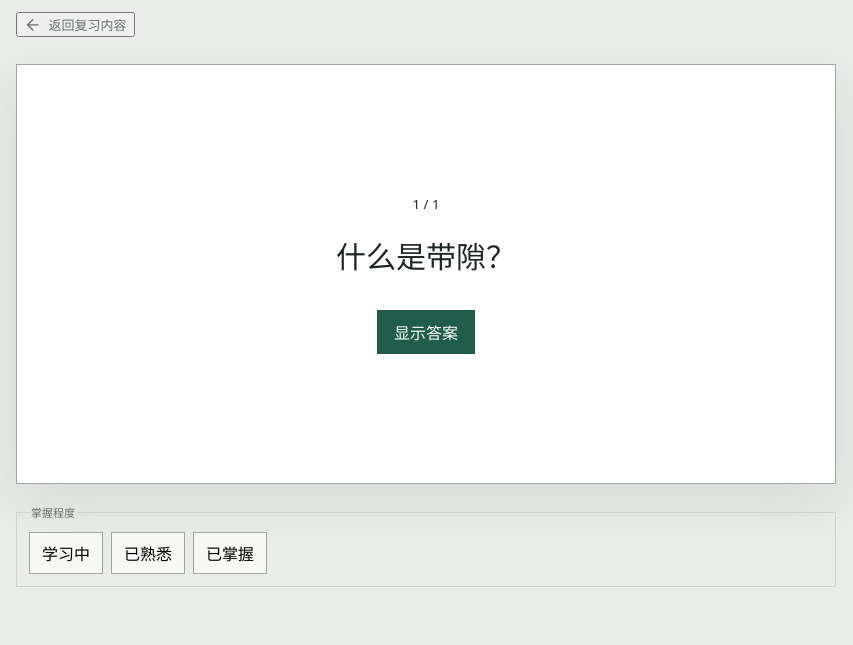
Scenario: reveals cards intentionally and records an explicit self-rating
This screenshot has width=853, height=645.
Expected: the heading "什么是带隙？" is shown, [336,234,516,280]
Expected: the text "导带底与价带顶的能量差" is not shown
Click the button "显示答案": (426, 332) [377,310,475,354]
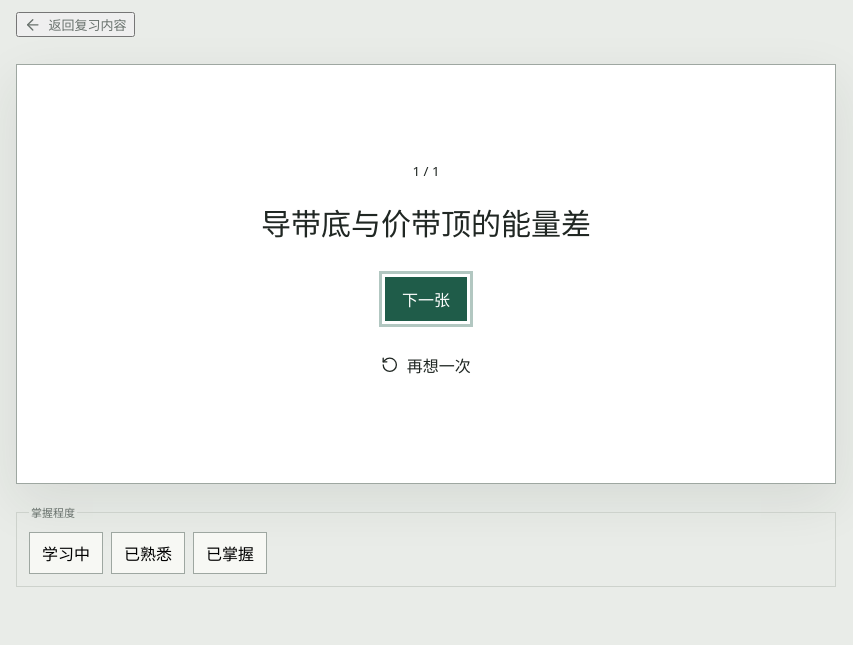
Now the heading "导带底与价带顶的能量差" is shown, box [261,202,591,246]
Click the button "已熟悉": (148, 553) [111,532,185,574]
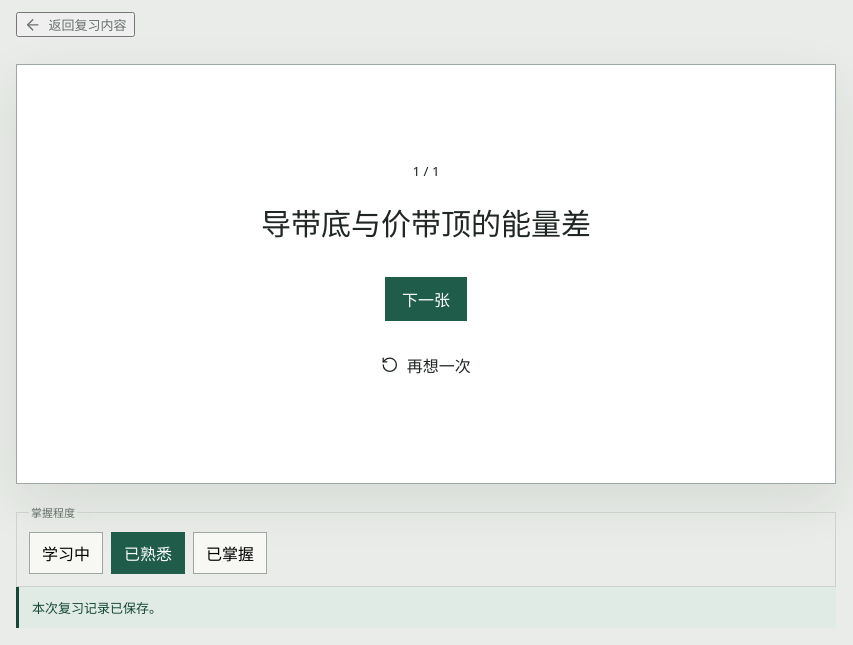
Now the text "本次复习记录已保存。" is shown, box [16,587,836,628]
